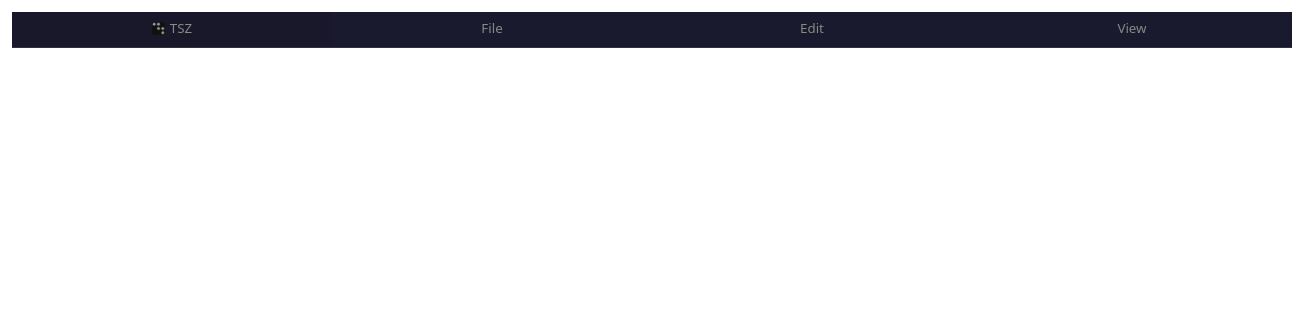
it: clicking View tab shows View controls including a zoom slider
What coordinates should you click on to do the following:
click the button "View"
I would click on:
 (1132, 30)
Its box is [972,12,1292,47].
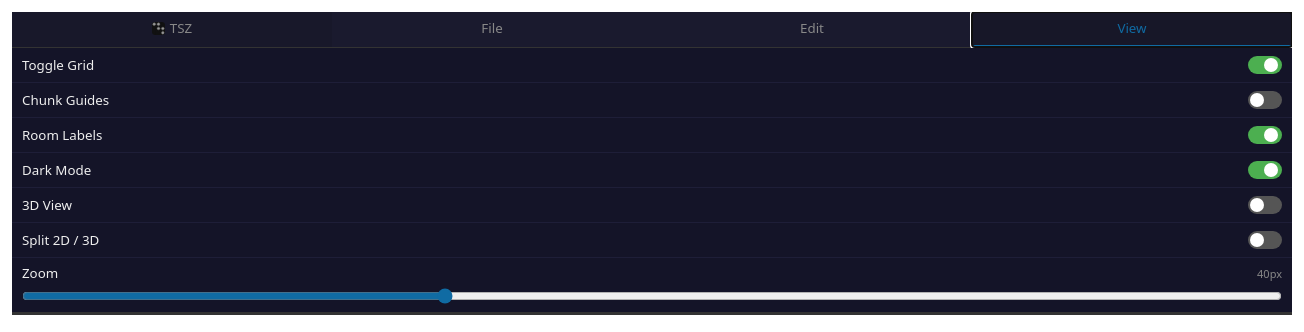
Expected: the text "Toggle Grid" is shown, [22,56,94,74]
Expected: the text "Dark Mode" is shown, [22,161,91,179]
Expected: the text "Zoom" is shown, [22,264,58,282]
